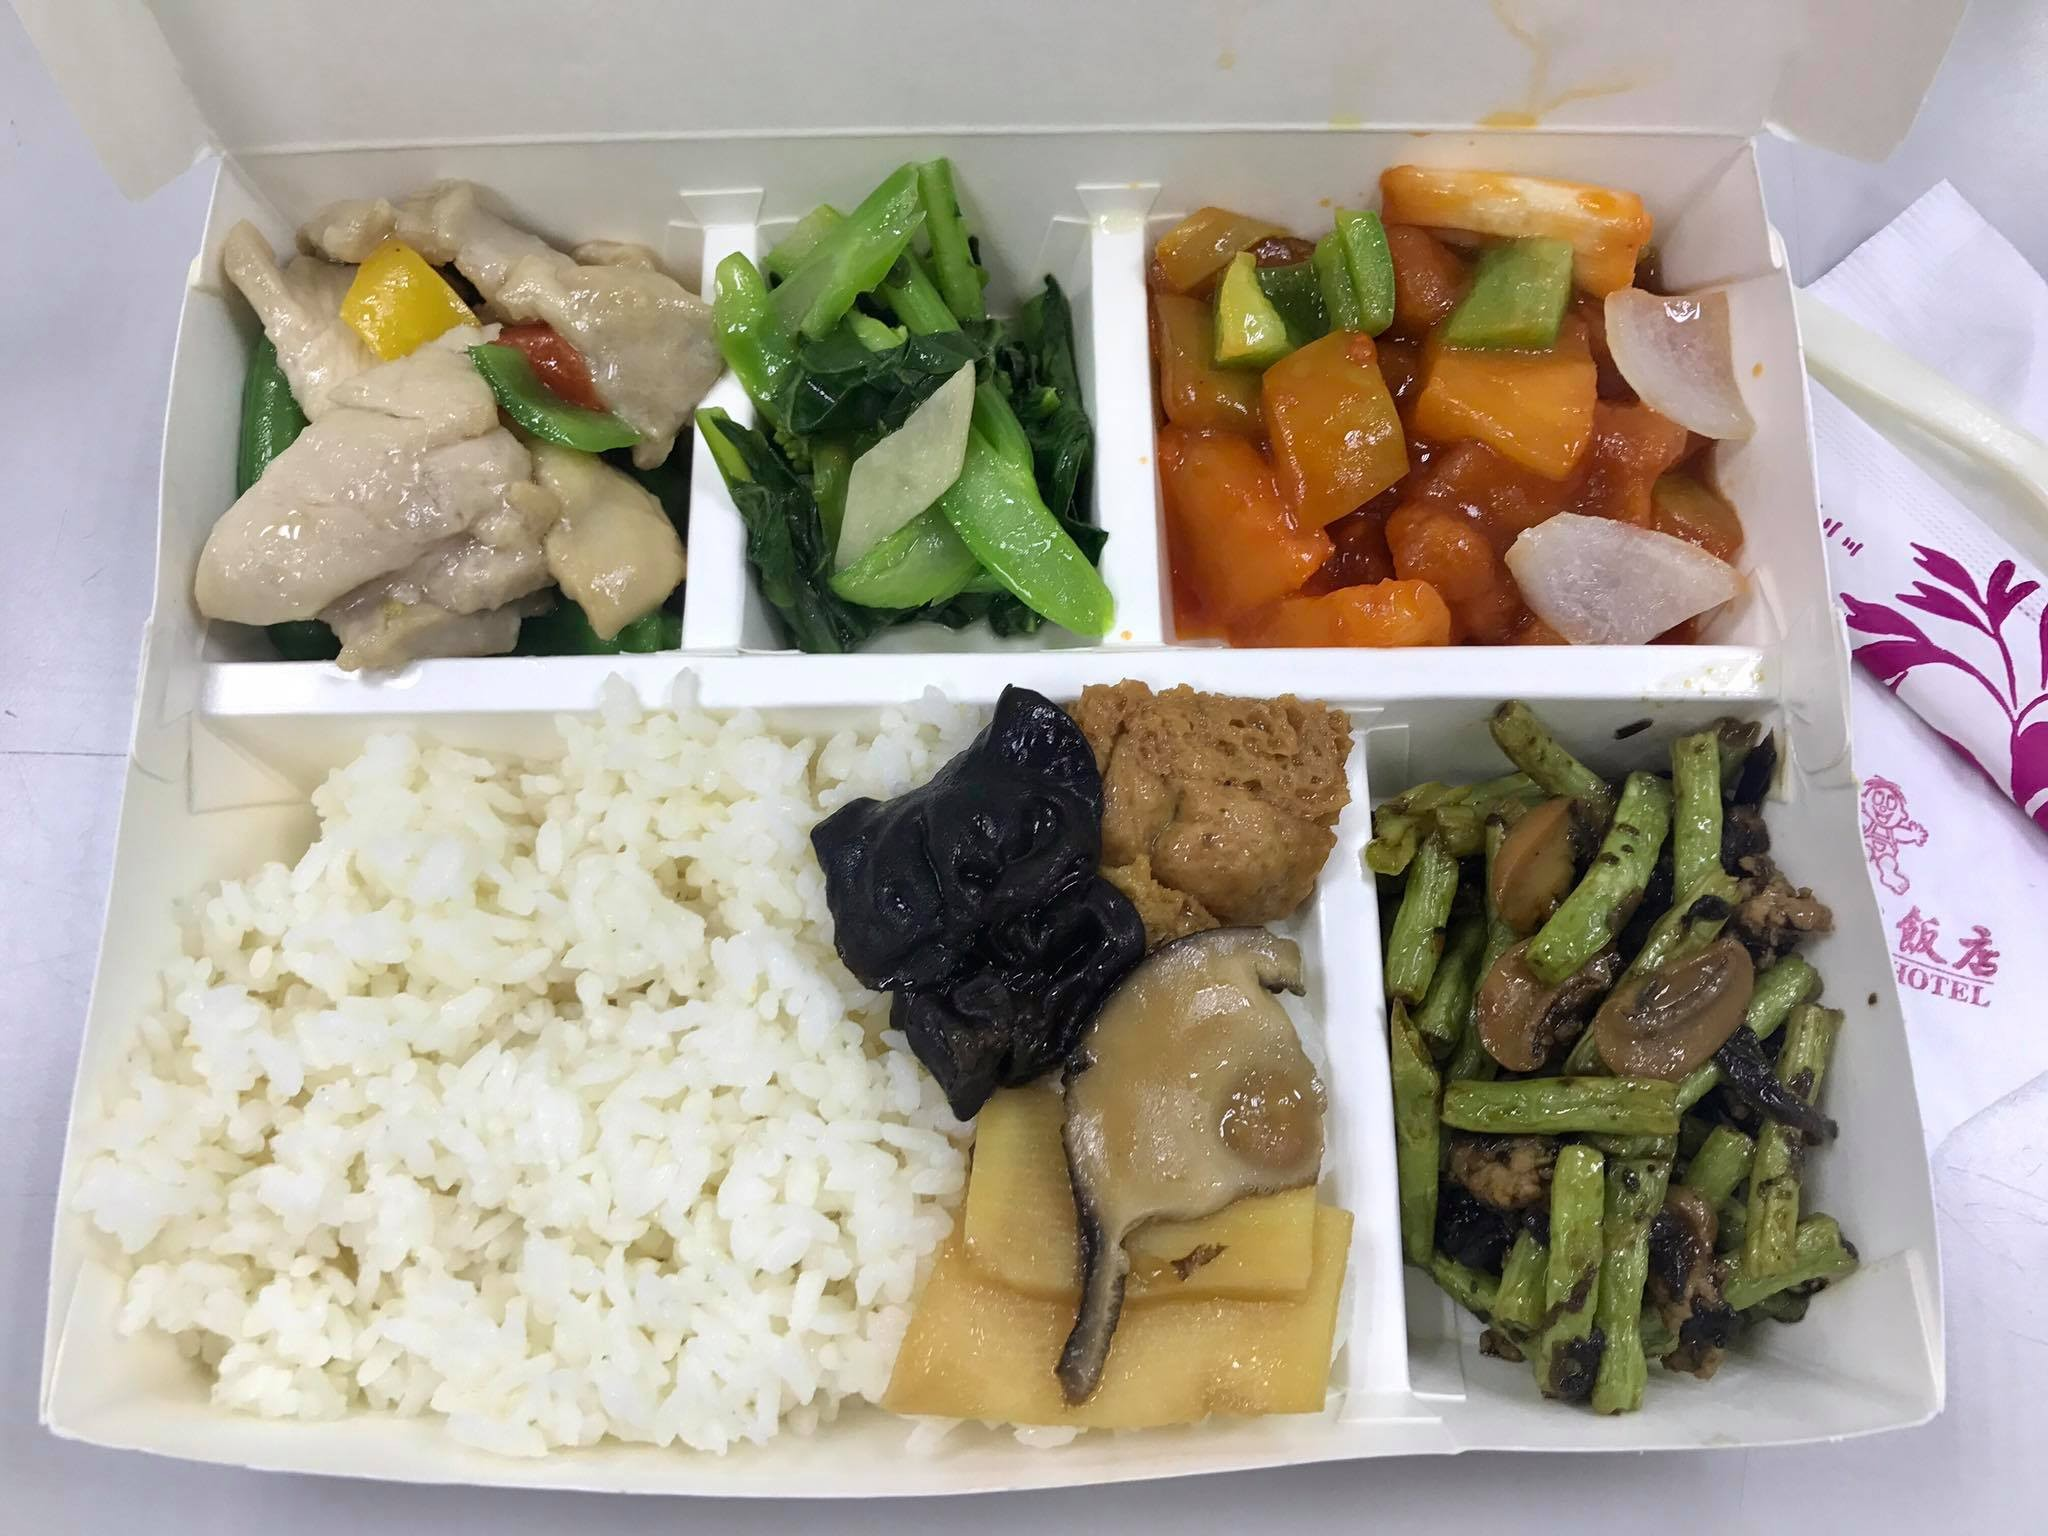rice: (145, 741, 942, 1457)
